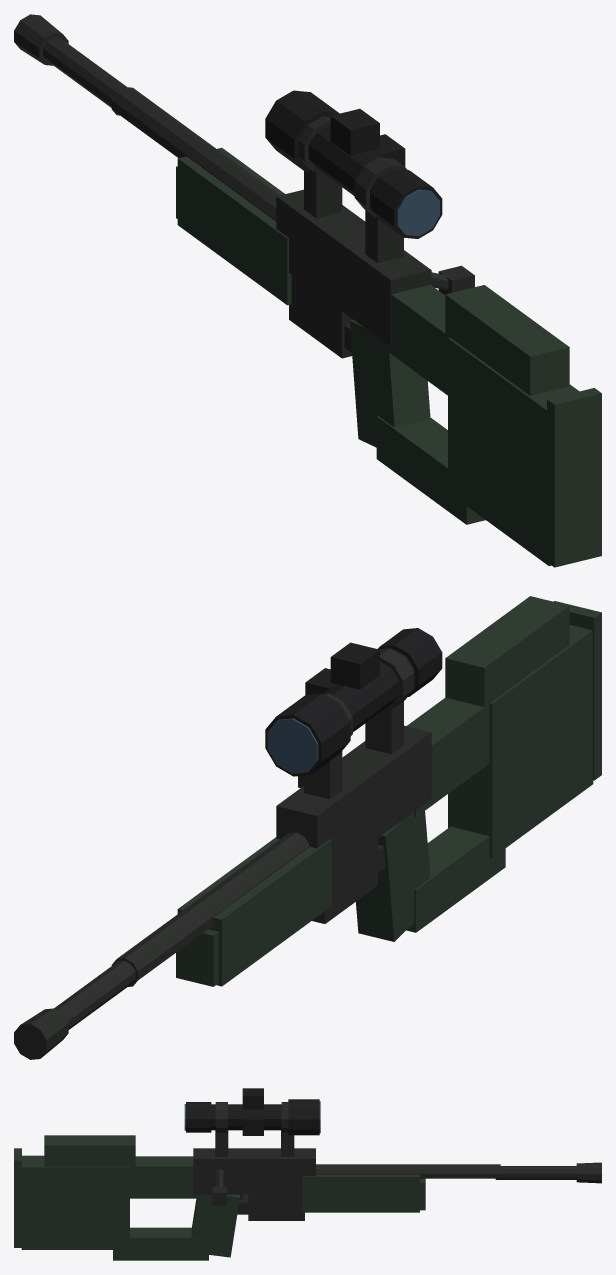
File: awp.glb
The picture shows the model from 3 angles, top to bottom: view 1: azimuth 30°, elevation 25°; view 2: azimuth 150°, elevation 25°; view 3: azimuth 270°, elevation 25°; orthographic projection. The views are drawn at different scales.
Visible parts, largest first — view 1: awp; view 2: awp; view 3: awp.
Part boxes in pixels (bbox=[...]): awp: bbox=[14, 14, 601, 567]; awp: bbox=[14, 596, 601, 1059]; awp: bbox=[14, 1088, 601, 1260].
Size of the model in its own units: 0.1342 by 0.356 by 1.16.
